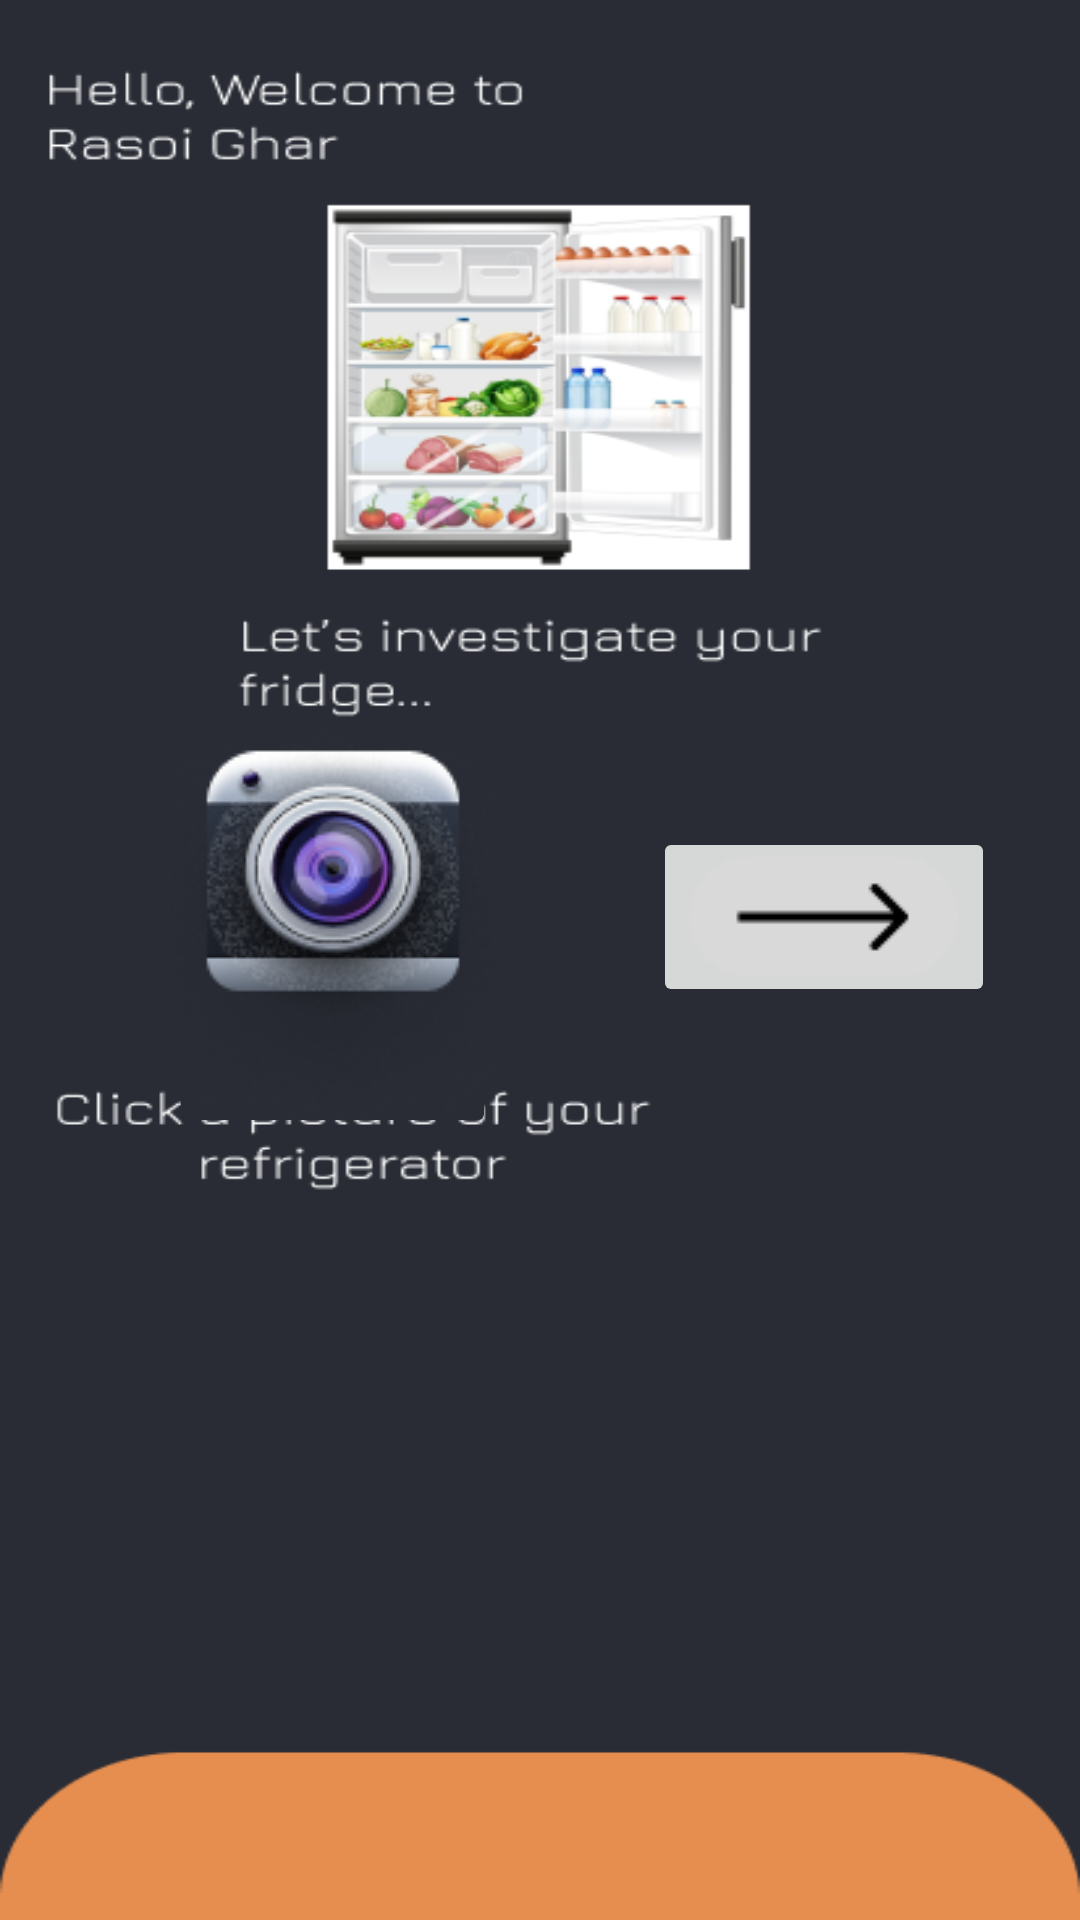

Icons on this 1080 × 1920 Android screen, each with its box as [left=x1, top=y1, right=x2, bottom=y2]:
bigarrow: [left=665, top=845, right=983, bottom=989]
